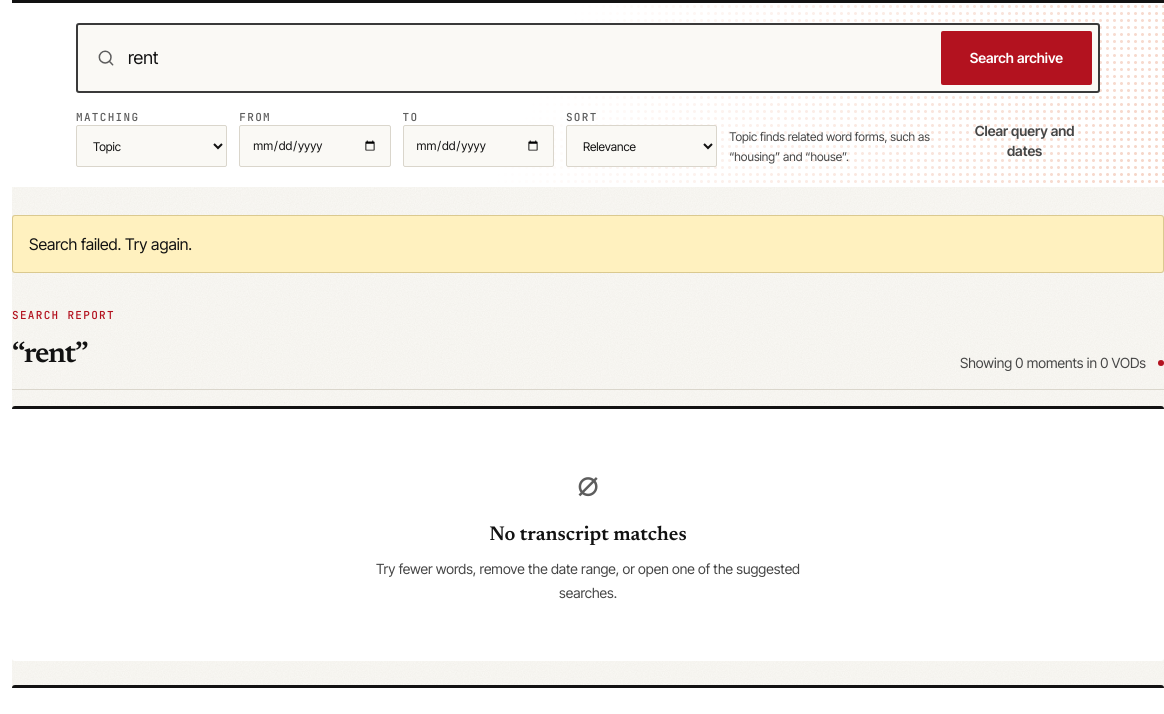
SearchPage › announces search failure while preserving the editable query
Expected: the message reads "Search failed. Try again.", [29,234,192,254]
Type " control" into the search field named "Search query".
click(524, 58); type(" control")  # box [128,31,921,85]
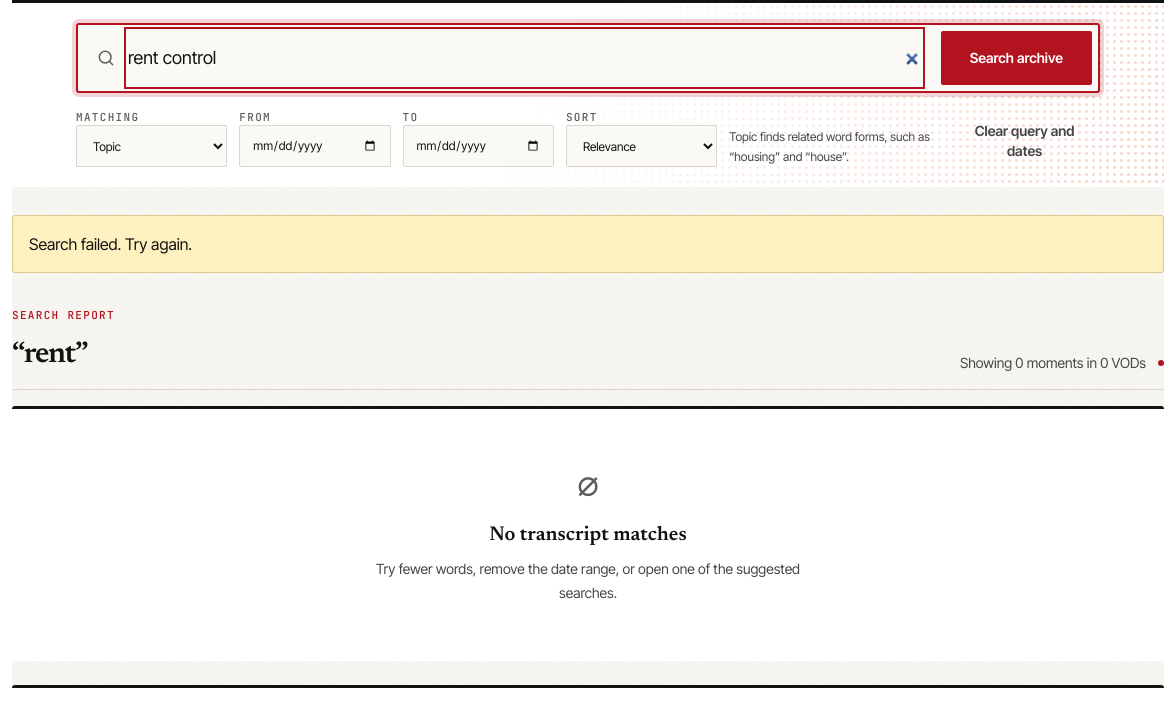
Now the search field named "Search query" holds "rent control", box [128,31,921,85]
